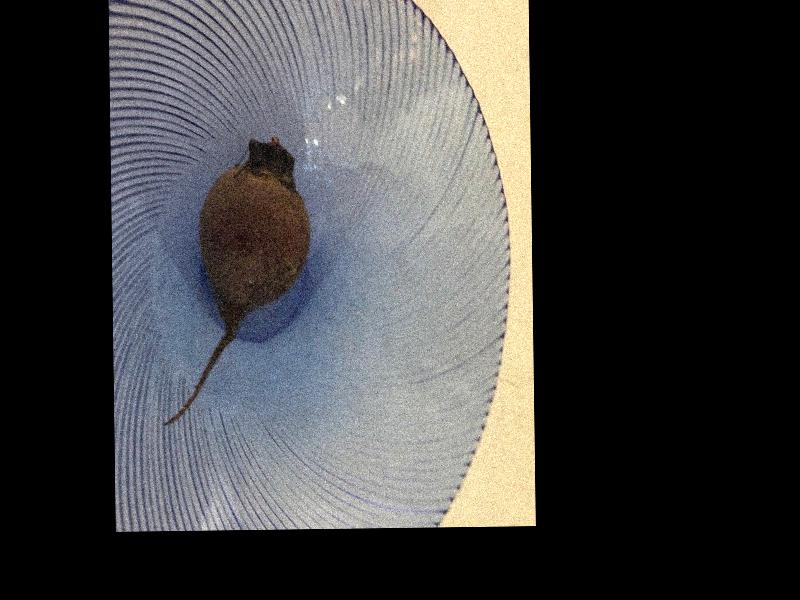Beet: (161, 138, 310, 424)
